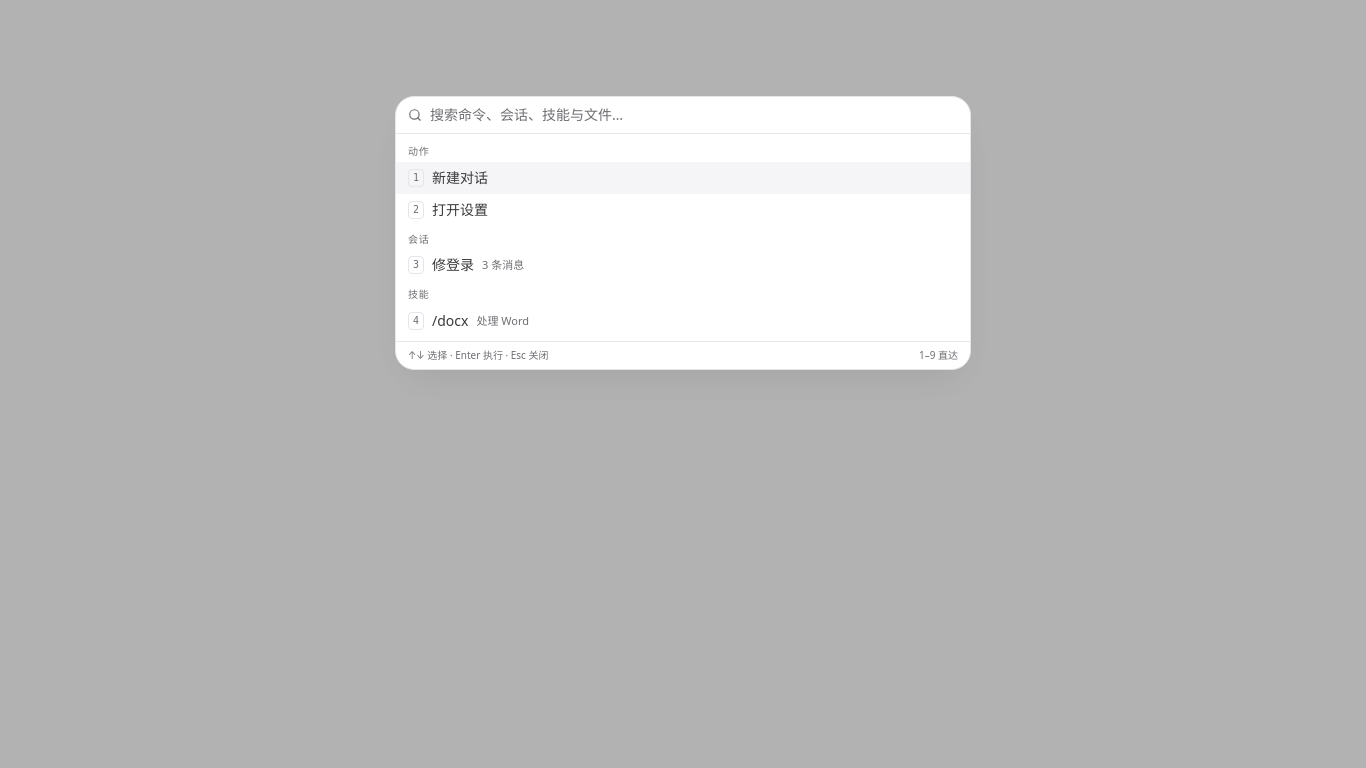
Scenario: CommandPalette › 没有结果时给明确空态
Type "zzz" into the field labelled "搜索命令、会话、技能与文件".
click(694, 115); type("zzz")  # box top-left (430, 105), bottom-right (958, 125)
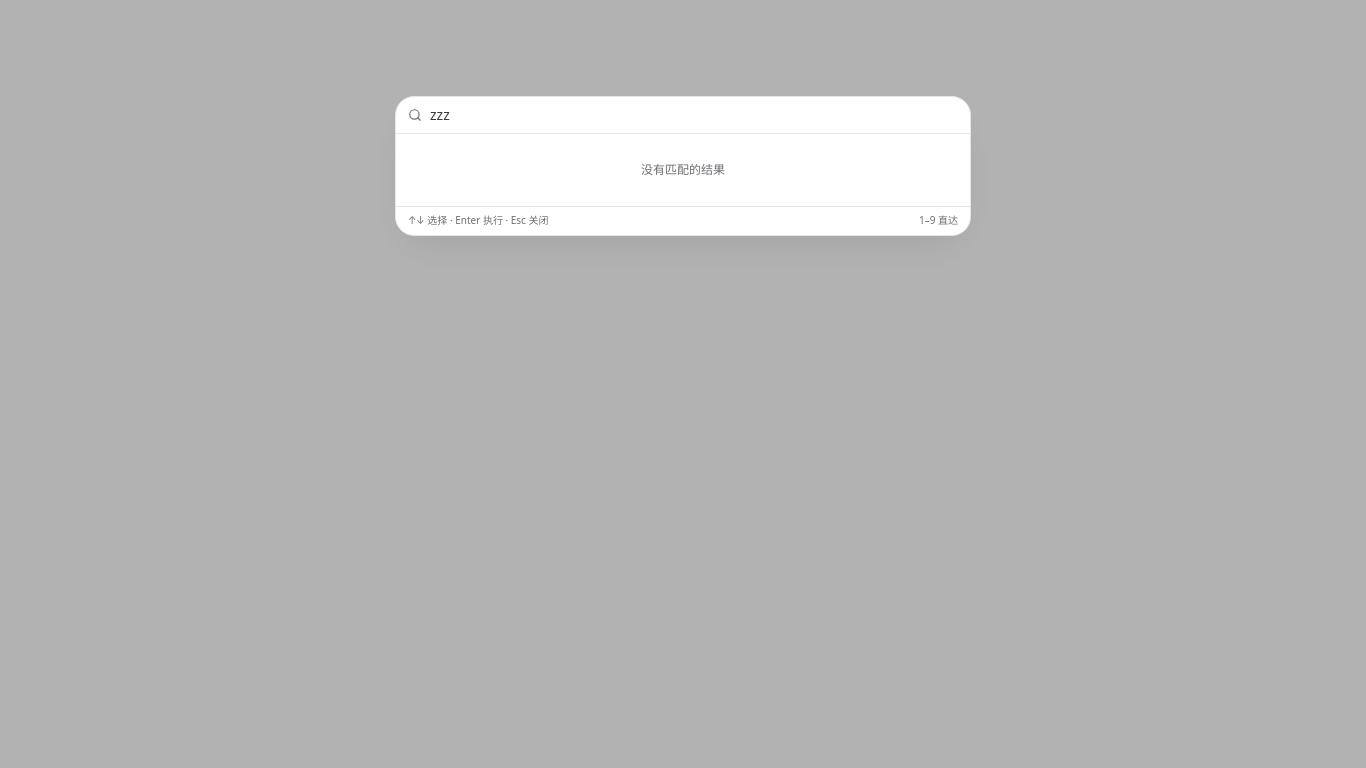
Check: the text "没有匹配的结果" is shown, box top-left (641, 161), bottom-right (725, 178)
